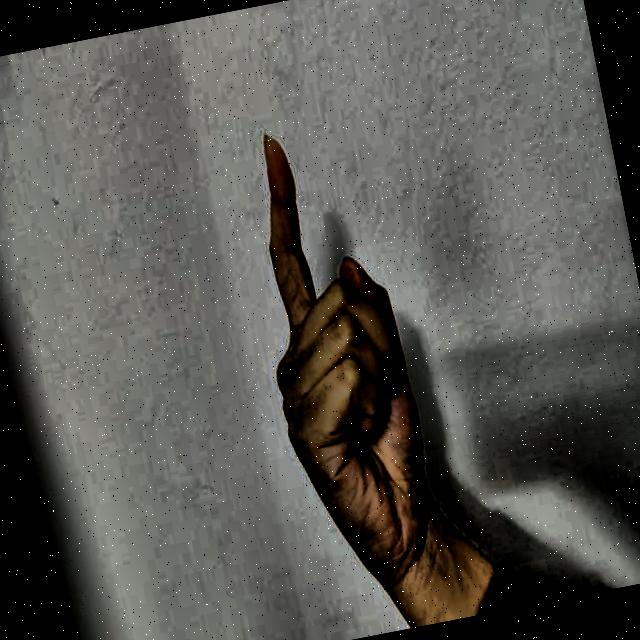U: (186, 85, 488, 596)
